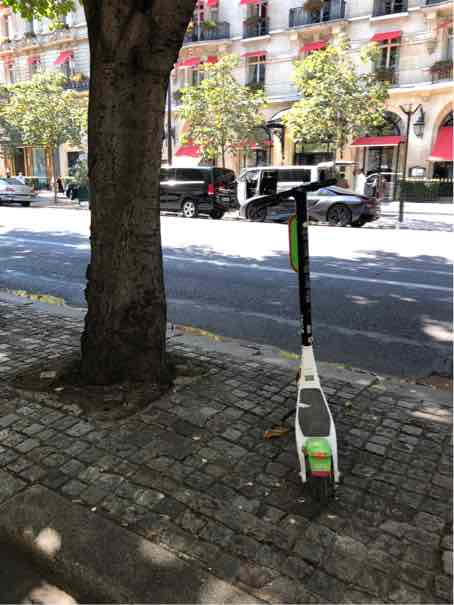scooter: (239, 179, 369, 501)
